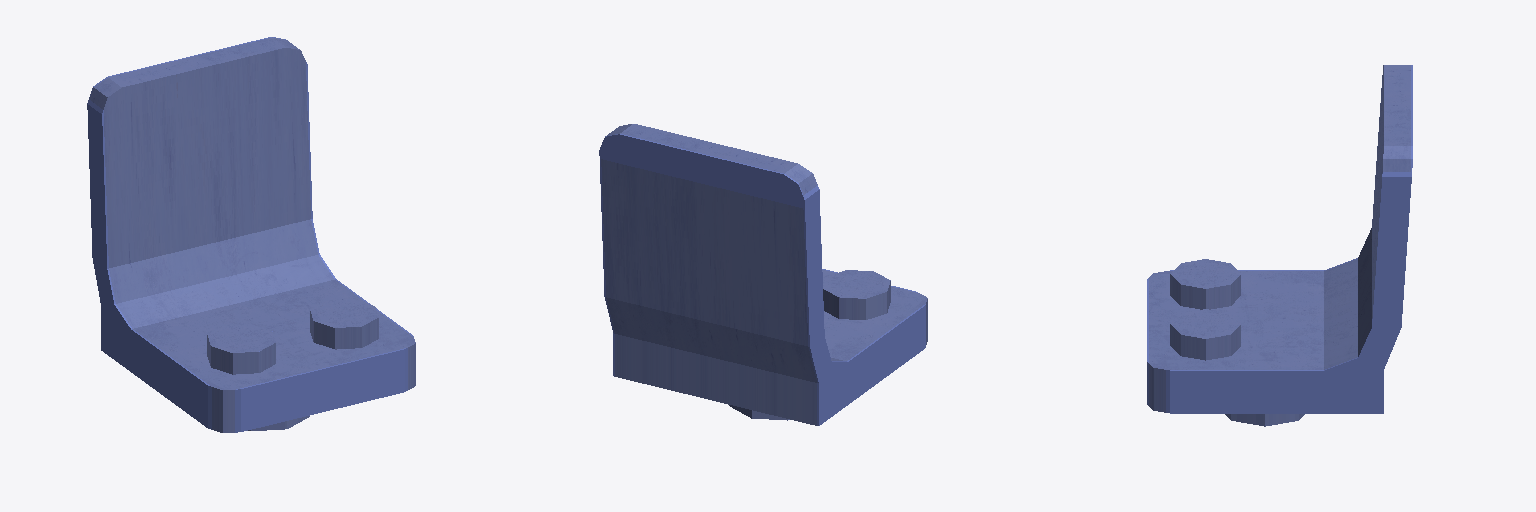
3 views of the same model, side by side, from view 1: azimuth 30°, elevation 25°; view 2: azimuth 150°, elevation 25°; view 3: azimuth 270°, elevation 25° (orthographic).
Parts seen in each view (by area): view 1: Mesh_0001_Mesh_0001Mesh; view 2: Mesh_0001_Mesh_0001Mesh; view 3: Mesh_0001_Mesh_0001Mesh.
Part boxes in pixels (x1,y1,x2,y2): Mesh_0001_Mesh_0001Mesh: (87, 37, 415, 432); Mesh_0001_Mesh_0001Mesh: (599, 124, 927, 425); Mesh_0001_Mesh_0001Mesh: (1147, 65, 1412, 426).
Bounding box in the file's own units: 0.1524 × 0.2134 × 0.1715.
Materials: 1 (1 with a texture image).